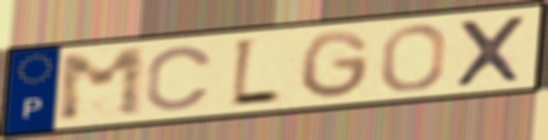C: (142, 43, 217, 113)
G: (299, 28, 374, 101)
L: (227, 36, 285, 111)
M: (55, 45, 147, 126)
O: (378, 22, 450, 94)
X: (452, 12, 530, 90)
